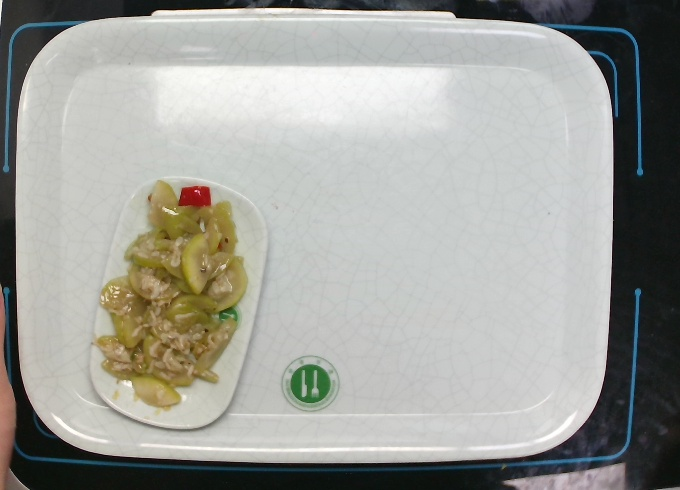WCQzf-Tuo_Yuan_Pan: (84, 172, 268, 429)
